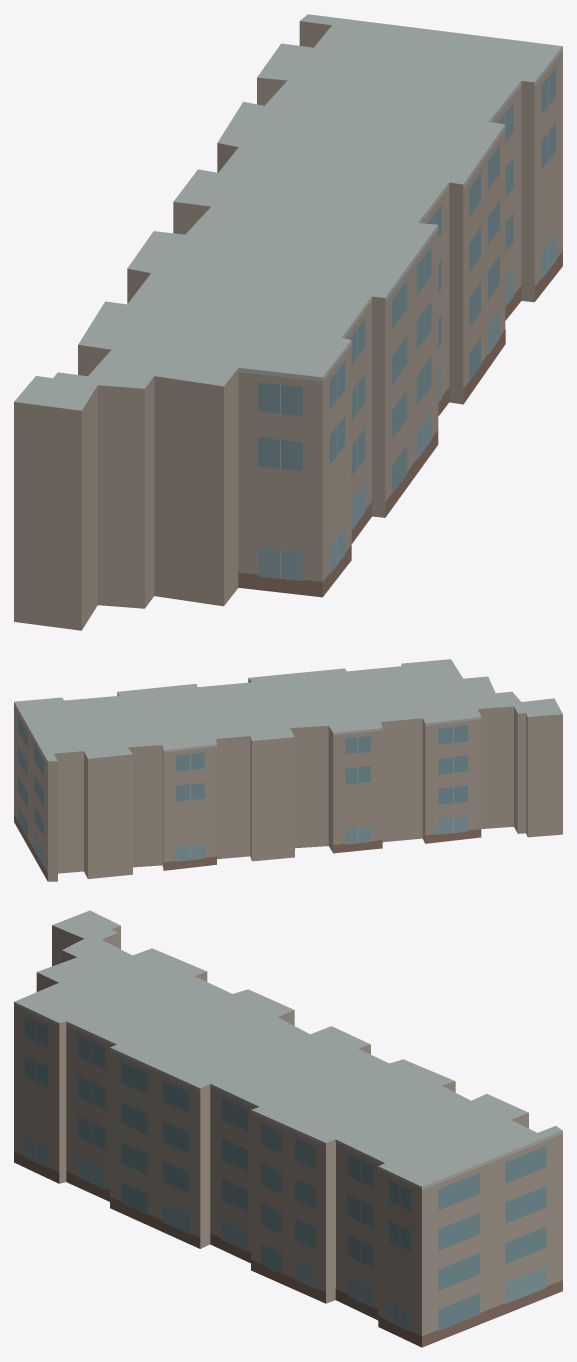
Rendered from survey-upis-32692584.glb.
3 views of the same model, one above another, from view 1: azimuth 30°, elevation 25°; view 2: azimuth 150°, elevation 25°; view 3: azimuth 270°, elevation 25° (orthographic). The views are drawn at different scales.
Parts seen in each view (by area): view 1: survey-upis-32692584.tmp; view 2: survey-upis-32692584.tmp; view 3: survey-upis-32692584.tmp.
Part boxes in pixels (x1,y1,x2,y2): survey-upis-32692584.tmp: (14,14,562,630); survey-upis-32692584.tmp: (14,659,562,881); survey-upis-32692584.tmp: (14,910,562,1347).
Size of the model in its own units: 45.05 by 12.2 by 37.78.
